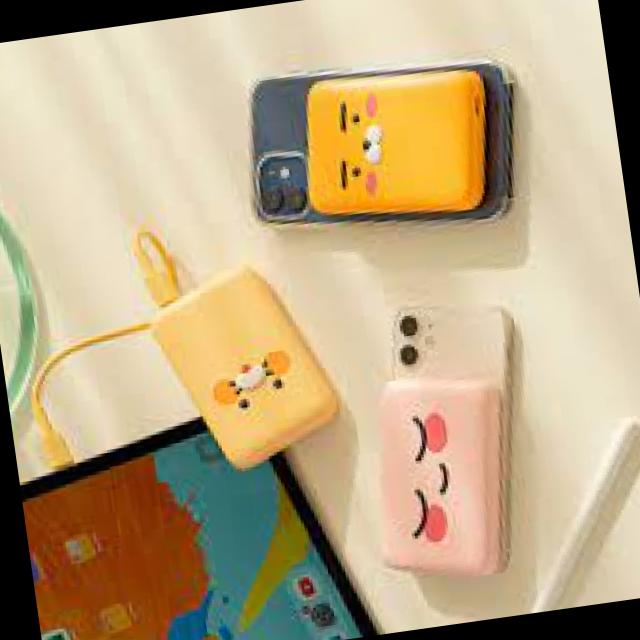portable-charger: (146, 256, 348, 475), (354, 366, 536, 584), (292, 57, 507, 233)
